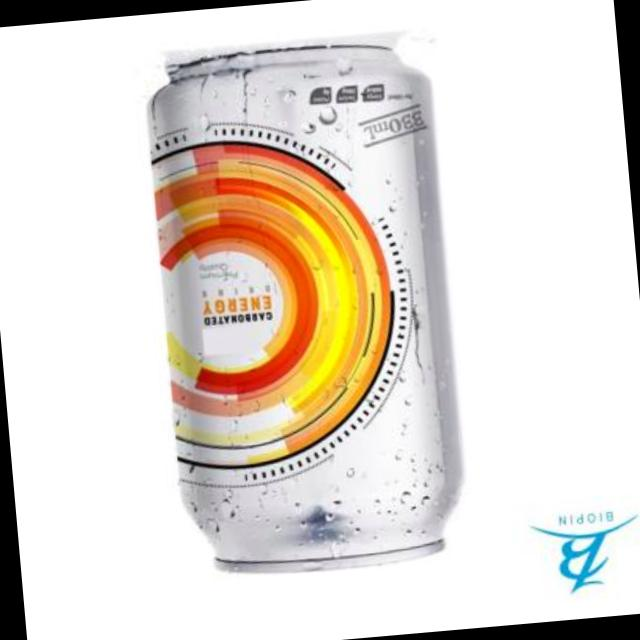metal: (152, 49, 463, 574)
